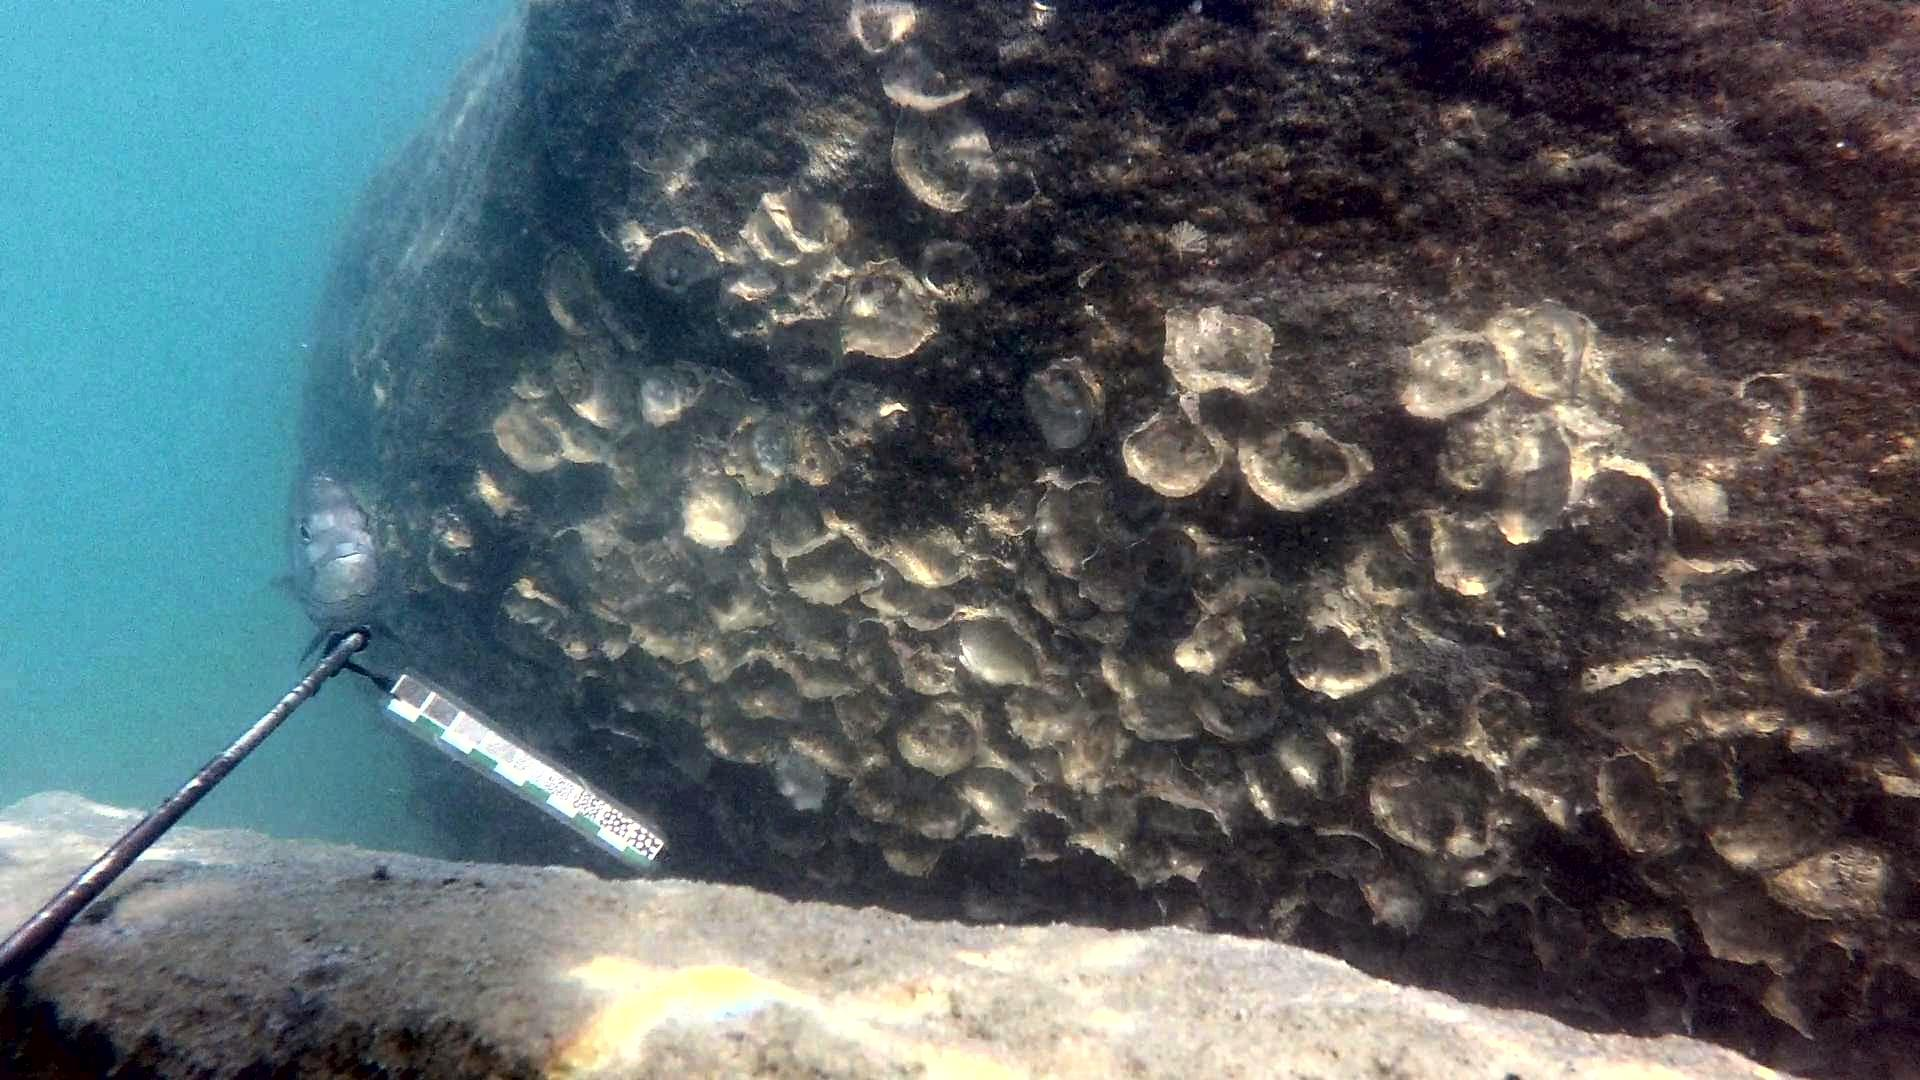acanthopagrus palmaris: (253, 448, 437, 671)
